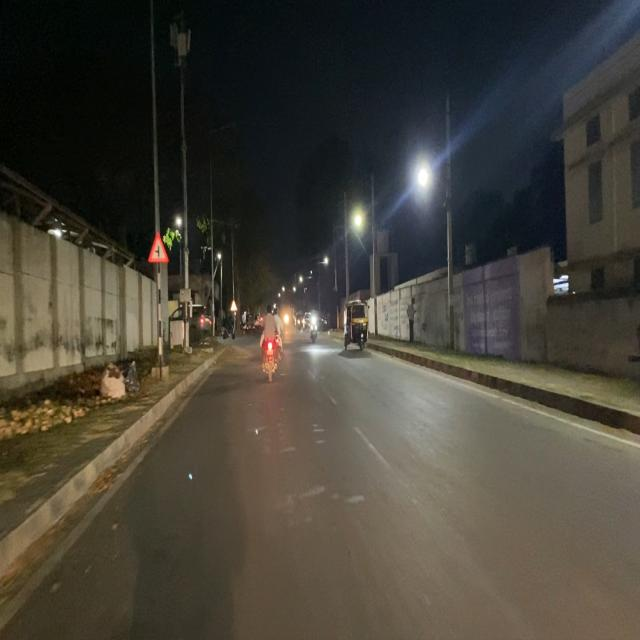bien_cam: (147, 230, 169, 264)
